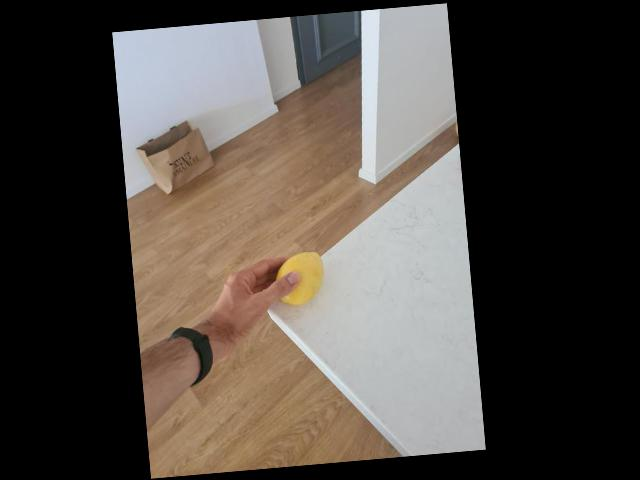lemon: (271, 254, 325, 304)
